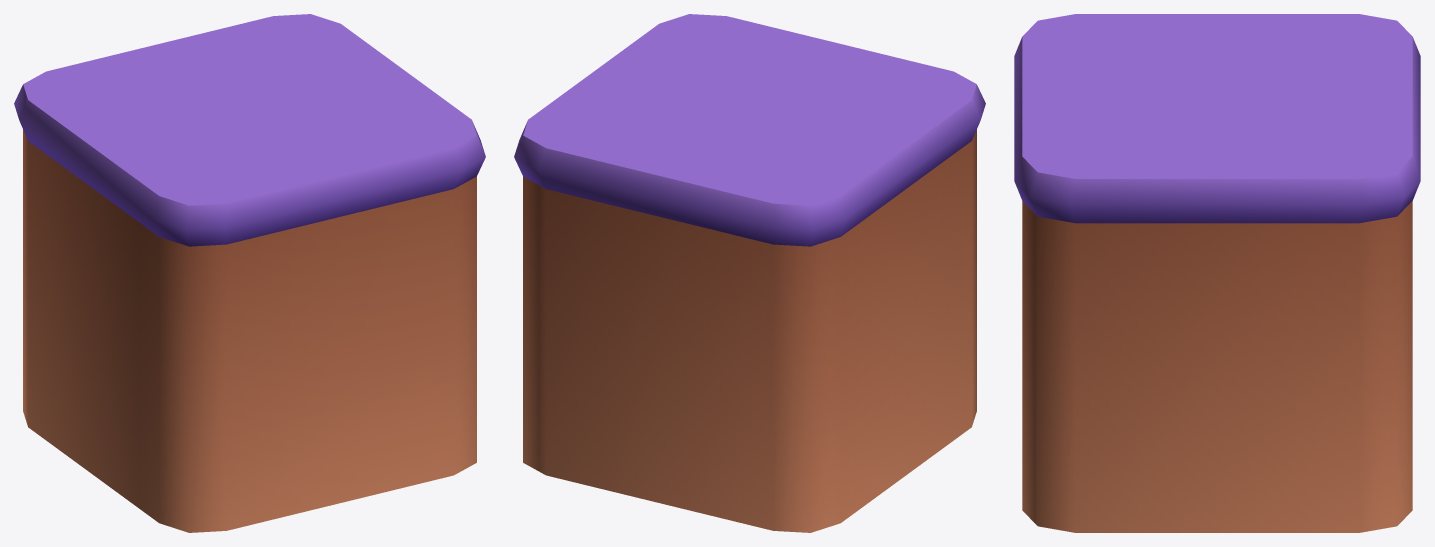
File: pfa_block-grass-large-tall.glb
3 views of the same model, side by side, from view 1: azimuth 30°, elevation 25°; view 2: azimuth 150°, elevation 25°; view 3: azimuth 270°, elevation 25° (orthographic). The views are drawn at different scales.
Visible parts, largest first — view 1: block-grass-large-tall; view 2: block-grass-large-tall; view 3: block-grass-large-tall.
Part boxes in pixels (left/top/right/bottom): block-grass-large-tall: left=14, top=14, right=485, bottom=532; block-grass-large-tall: left=514, top=14, right=985, bottom=532; block-grass-large-tall: left=1014, top=14, right=1420, bottom=532.
Size of the model in its own units: 2.08 by 2 by 2.08.
1 material, 1 textured.
